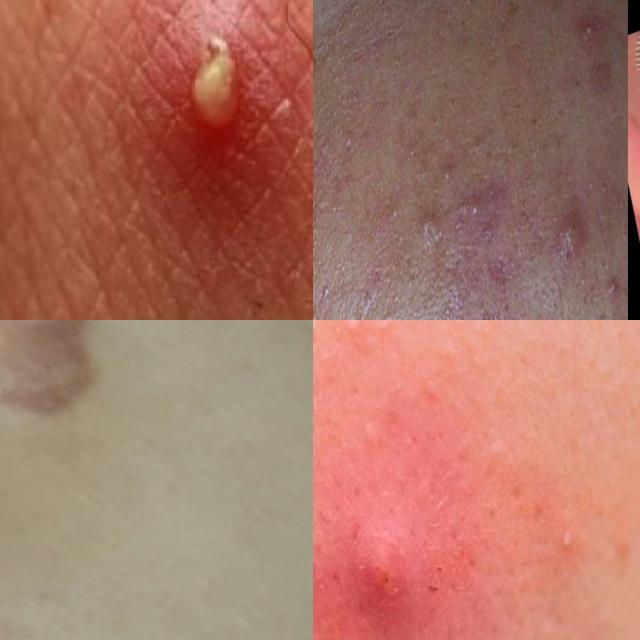keloid: (0, 320, 106, 424)
pustule: (600, 255, 622, 308), (581, 12, 606, 52)
sebo-crystan-conglo: (545, 184, 592, 270), (446, 215, 454, 222), (440, 187, 443, 192)
